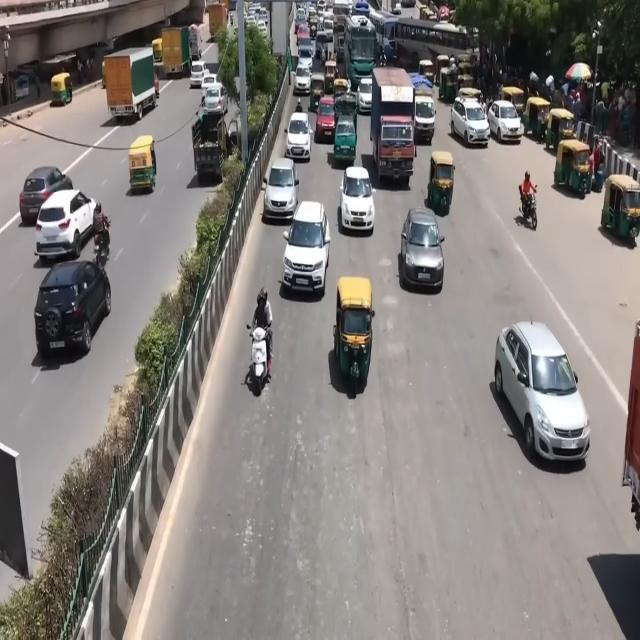auto: (326, 278, 378, 402), (333, 274, 374, 384), (118, 131, 164, 209), (600, 173, 640, 241), (554, 138, 592, 197), (427, 151, 455, 214), (128, 135, 157, 193), (522, 95, 552, 142), (546, 106, 576, 151), (50, 71, 73, 106), (439, 65, 459, 104), (309, 72, 326, 110), (324, 58, 339, 94), (332, 76, 350, 104), (436, 54, 450, 85), (457, 71, 475, 95), (418, 59, 434, 84), (152, 37, 163, 65)
bike-auto: (244, 282, 275, 420), (513, 169, 549, 241), (249, 290, 273, 375), (92, 205, 110, 268), (520, 170, 538, 217)
